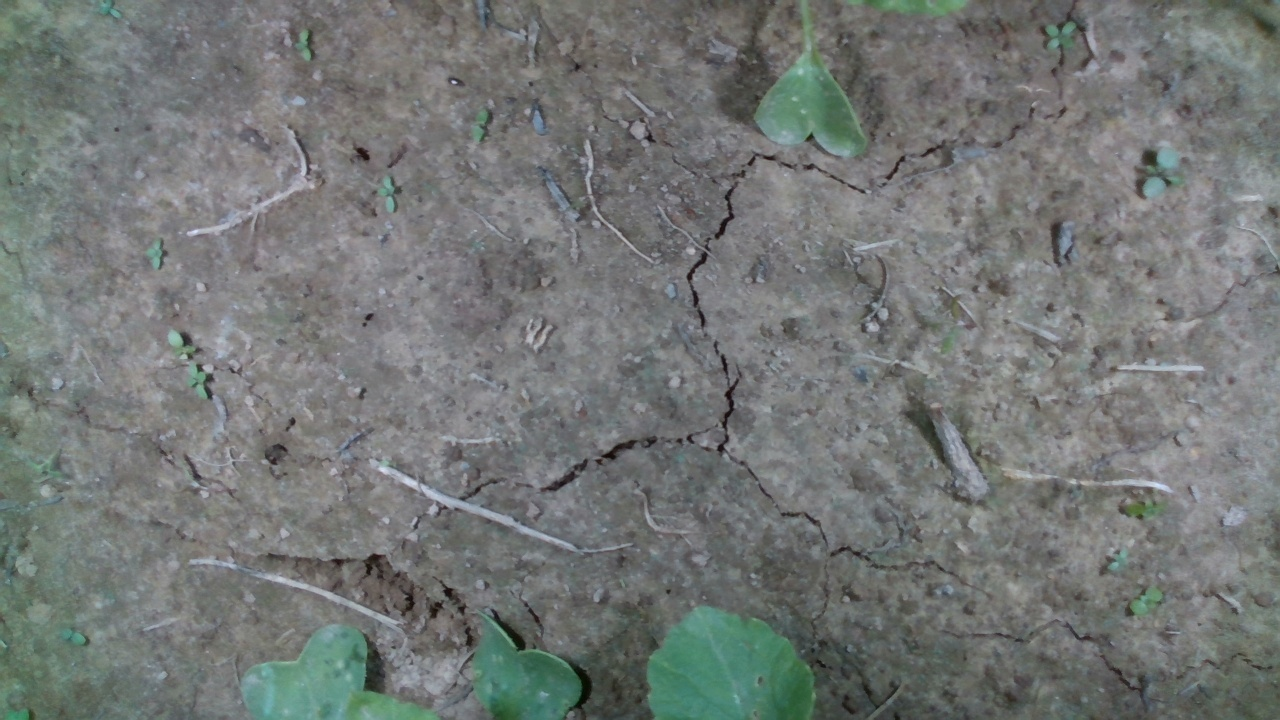weed: (1141, 144, 1183, 200), (1042, 20, 1078, 51), (1127, 586, 1162, 616), (185, 360, 208, 403), (375, 173, 396, 216), (291, 26, 312, 61), (470, 107, 488, 143), (146, 235, 164, 270)
